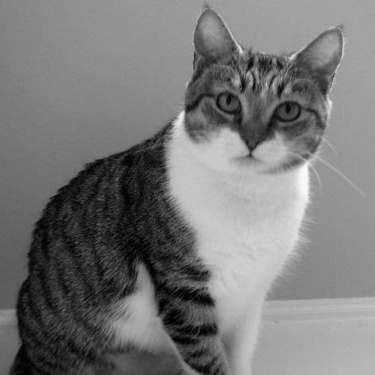cat: (7, 7, 343, 369)
